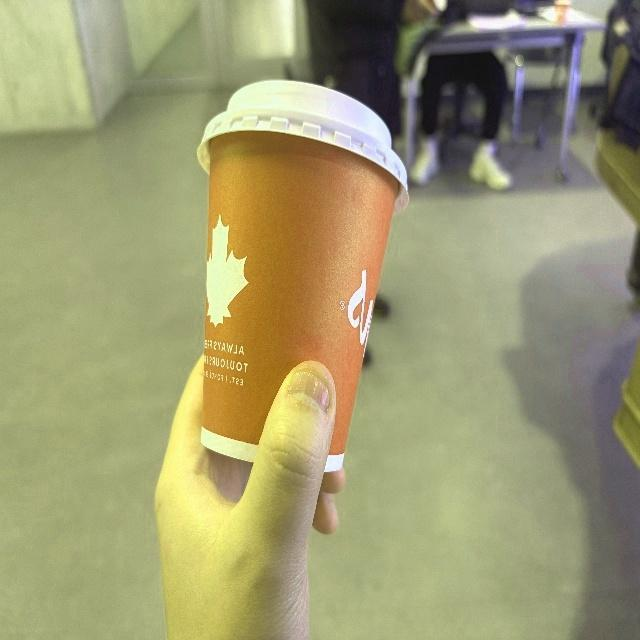timmies: (192, 70, 411, 477)
